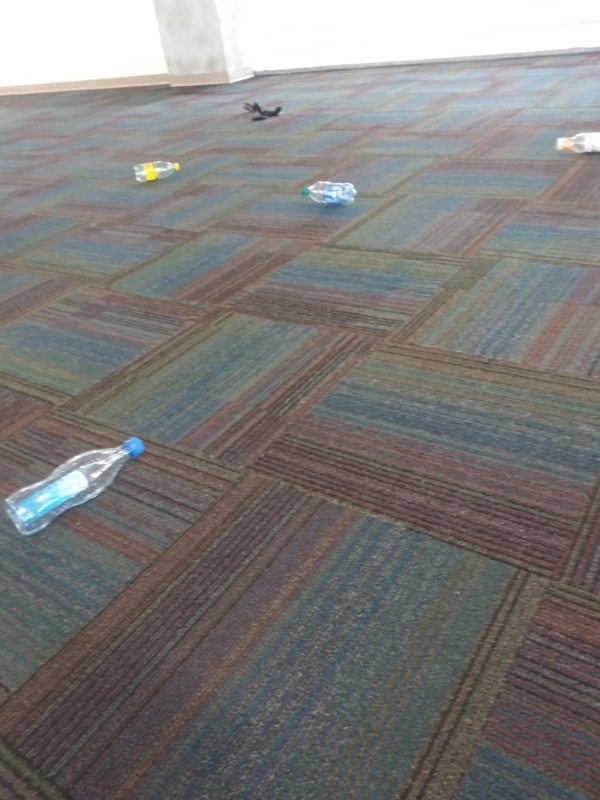bottle: (1, 429, 158, 540), (299, 178, 358, 210), (553, 124, 600, 163), (129, 160, 189, 187)
